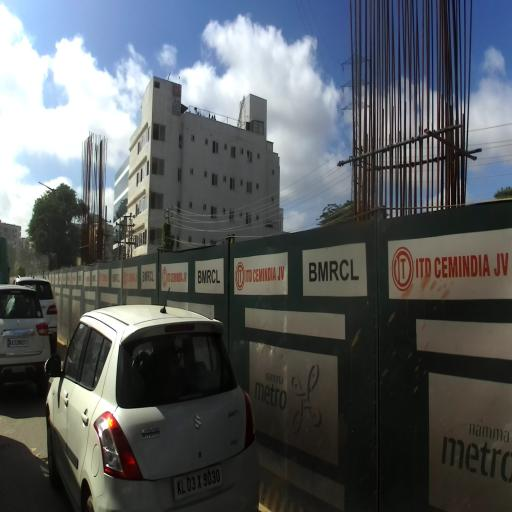street_light_0: (38, 181, 55, 194), (52, 187, 69, 194)
